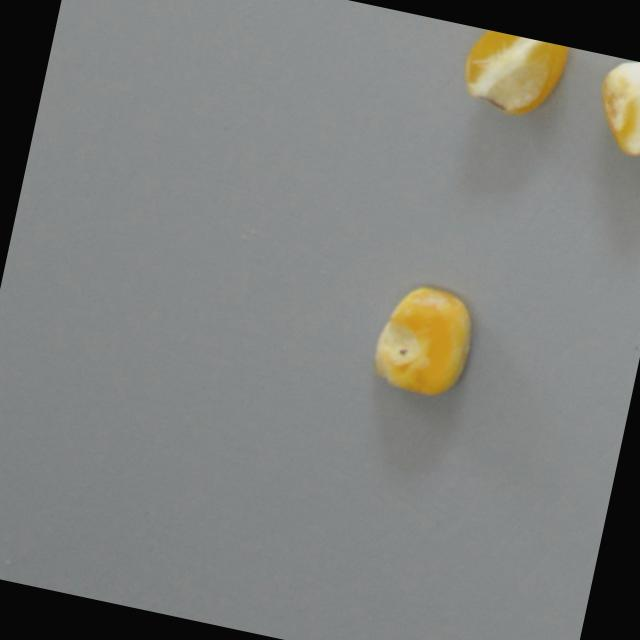dañado: (358, 273, 485, 405), (452, 24, 571, 125), (582, 53, 640, 163)
